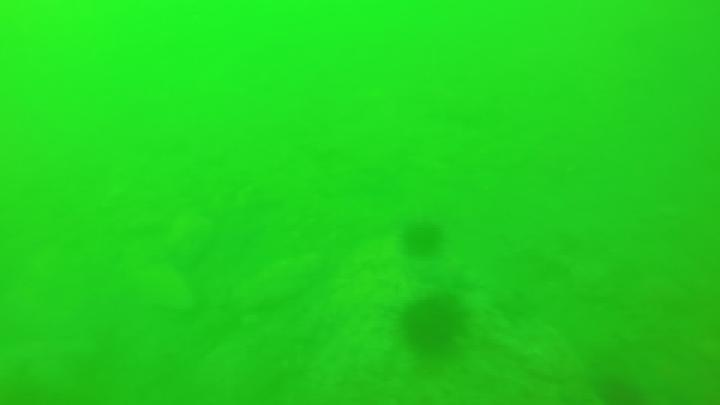starfish: (399, 294, 470, 355), (397, 220, 447, 259)
